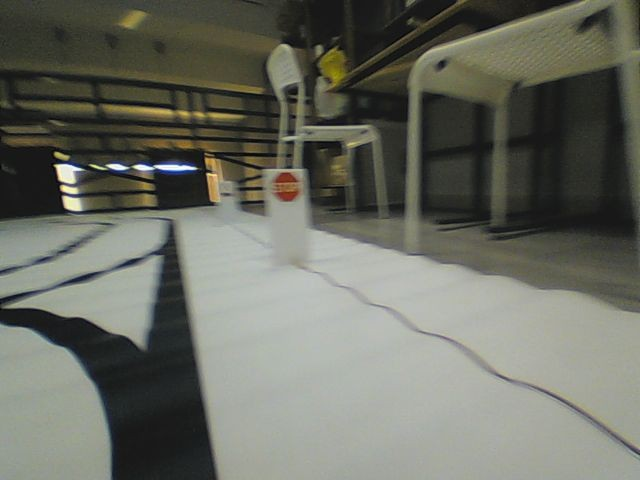Stop: (270, 172, 300, 202)
